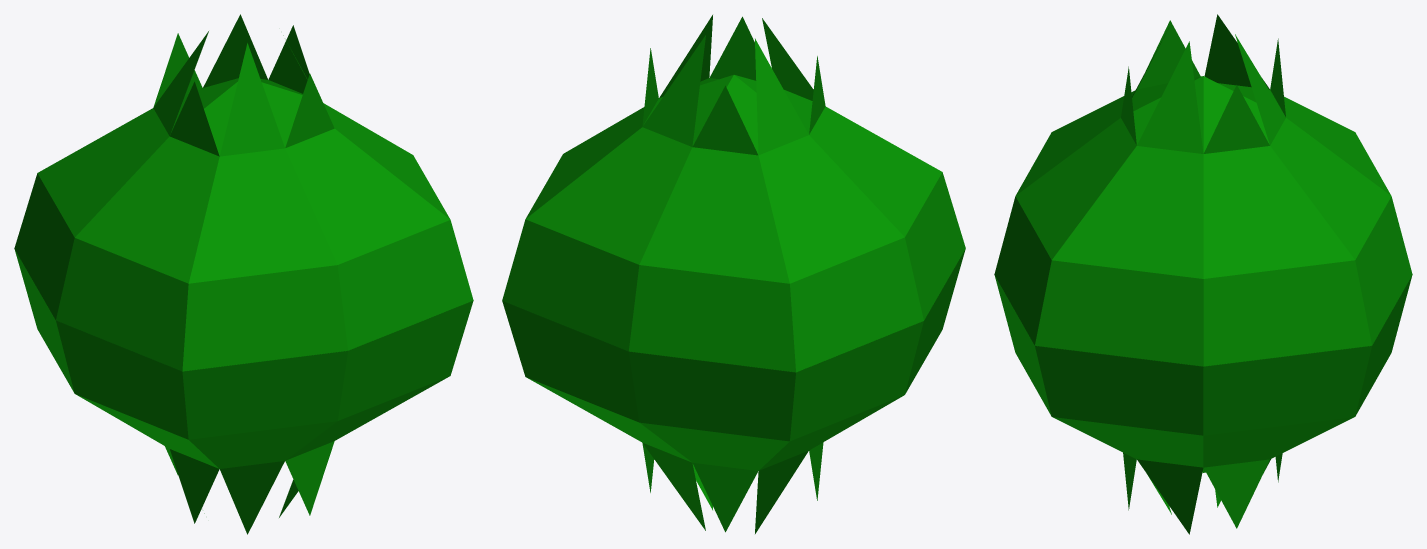
Rendered from semente plataforma.fbx.
The picture shows the model from 3 angles, left to right: view 1: azimuth 30°, elevation 25°; view 2: azimuth 150°, elevation 25°; view 3: azimuth 270°, elevation 25°; orthographic projection.
Visible parts, largest first — view 1: Cube.002, Cube.003; view 2: Cube.002, Cube.003; view 3: Cube.002, Cube.003.
Boxes of the visible parts, x1,y1,x2,y2 form: Cube.002: (14,14,473,371); Cube.003: (14,249,473,534); Cube.002: (502,15,965,372); Cube.003: (502,249,965,533); Cube.002: (994,14,1412,366); Cube.003: (994,275,1412,534).
Bounding box in the file's own units: 177 × 221 × 170.
